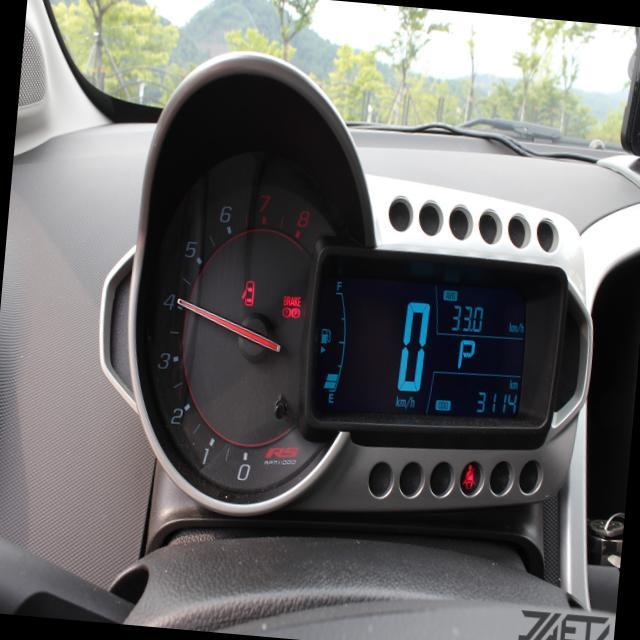Doors: (239, 277, 255, 307)
